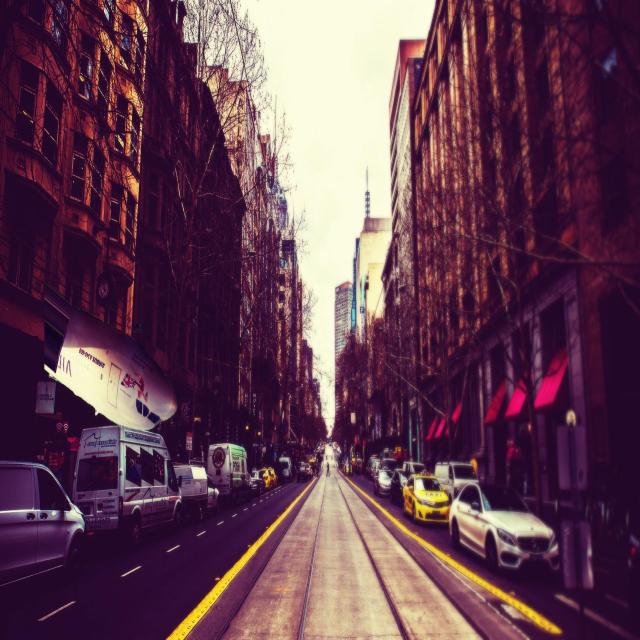airplane: (42, 293, 178, 435)
